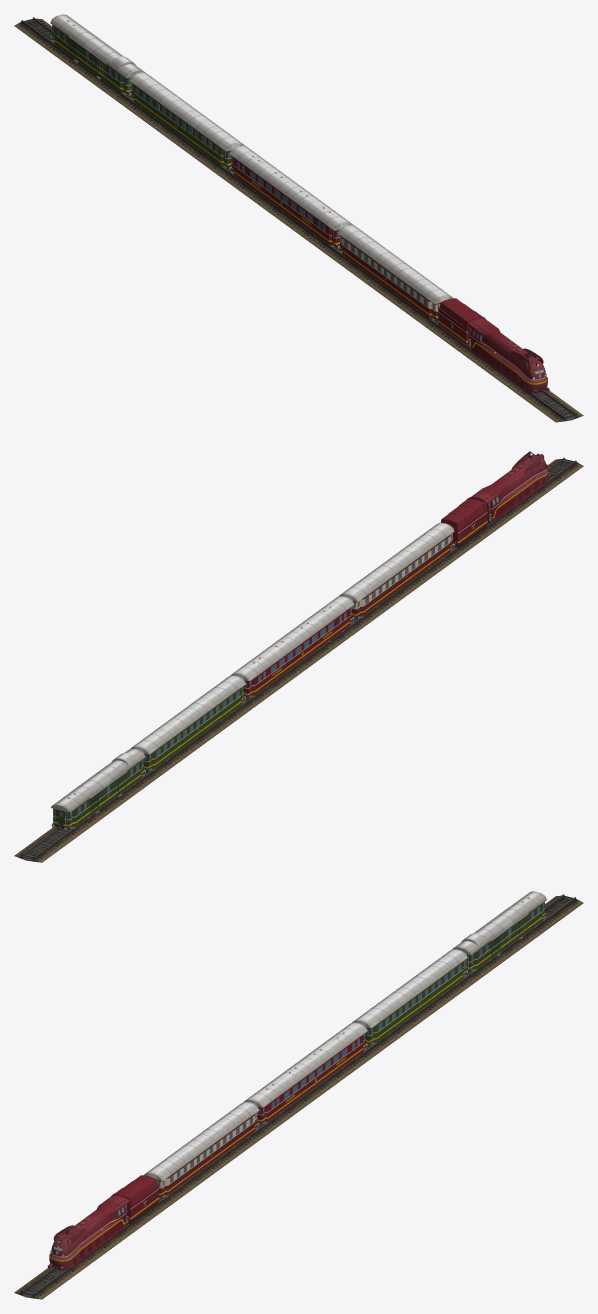
File: DRB_01_10_Steam_Locomotive_low_poly.glb
3 renders of one model, top to bottom at view 1: azimuth 30°, elevation 25°; view 2: azimuth 150°, elevation 25°; view 3: azimuth 330°, elevation 25°, orthographic.
Parts seen in each view (by area): view 1: Material1 (×6), Material2; view 2: Material1 (×6), Material2; view 3: Material1 (×6), Material2.
Boxes of the visible parts, x1=… form: Material1 (×6): x1=50, y1=14, x2=549, y2=393; Material2: x1=14, y1=17, x2=583, y2=422; Material1 (×6): x1=51, y1=451, x2=550, y2=830; Material2: x1=14, y1=457, x2=583, y2=862; Material1 (×6): x1=47, y1=891, x2=546, y2=1270; Material2: x1=14, y1=894, x2=583, y2=1299.
Bounding box in the file's own units: 419 × 509 × 14099.
Materials: 7 (7 with a texture image).
